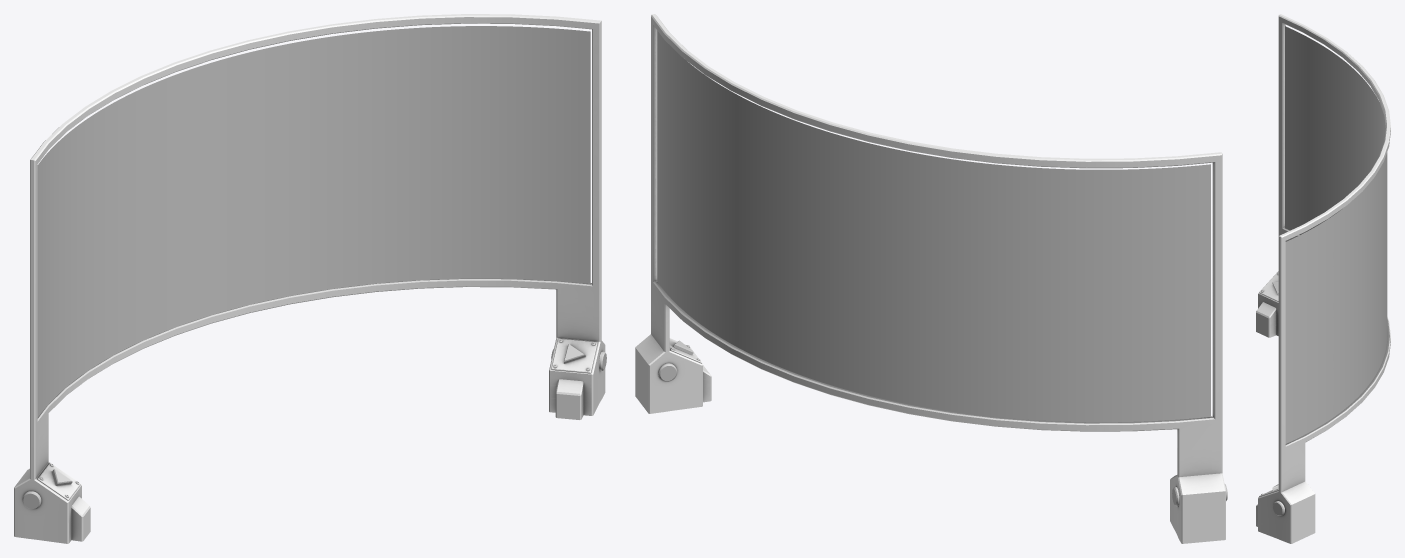
The model's file is screen.fbx.
3 renders of one model, left to right at view 1: azimuth 30°, elevation 25°; view 2: azimuth 150°, elevation 25°; view 3: azimuth 270°, elevation 25°, orthographic. The views are drawn at different scales.
Parts seen in each view (by area): view 1: Screen, ScreenFrame; view 2: Screen, ScreenFrame; view 3: Screen, ScreenFrame.
Boxes of the visible parts, x1,y1,x2,y2 form: Screen: (37, 26, 590, 417); ScreenFrame: (14, 14, 605, 543); Screen: (657, 31, 1210, 422); ScreenFrame: (635, 14, 1225, 543); Screen: (1285, 26, 1387, 443); ScreenFrame: (1256, 14, 1390, 543).
Size of the model in its own units: 569 by 349 by 141.
1 material, 1 textured.
